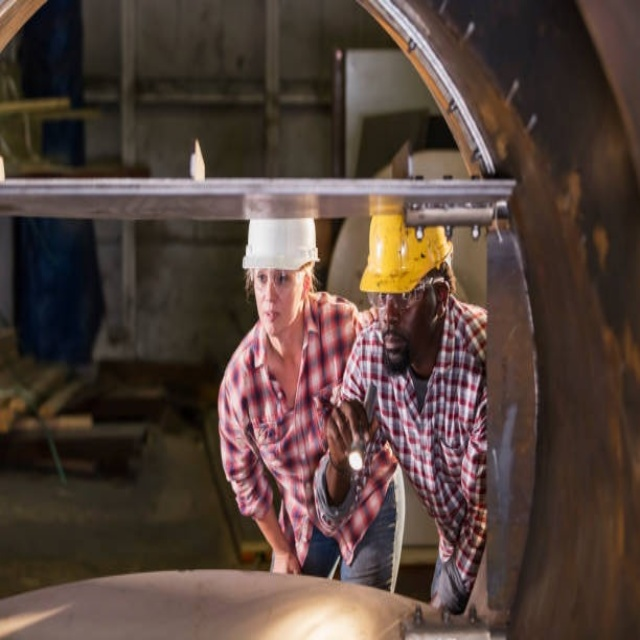Gafas: (365, 273, 443, 311), (250, 260, 314, 293)
Sin_guantes: (323, 392, 377, 477)
Sin_mascara: (379, 323, 409, 364), (260, 303, 285, 331)
